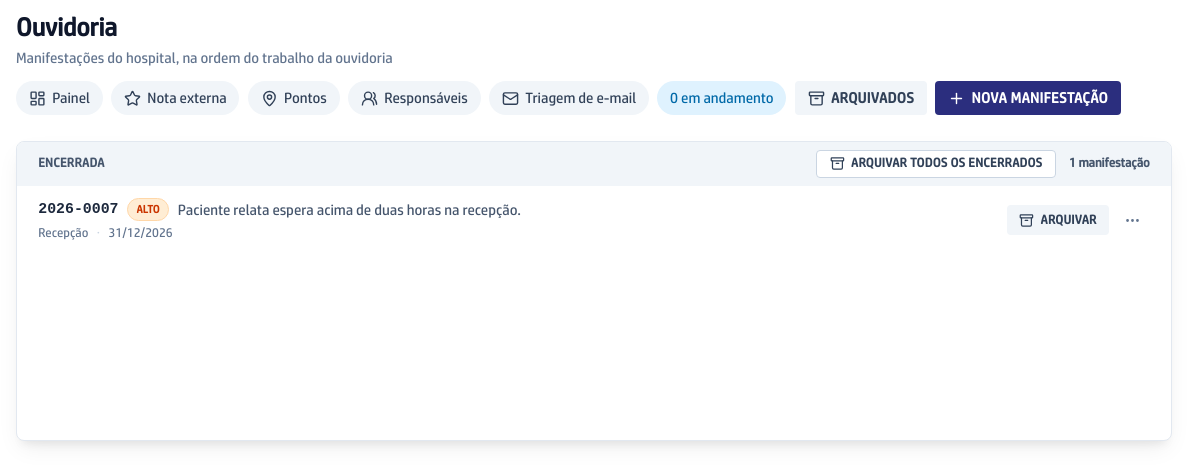
Test case: a recusa do servidor chega ao ouvidor › sem recusa nenhuma, nada de aviso na tela
Check: the text "2026-0007" is shown, box [38, 199, 119, 220]
Click the button "Arquivar": (1058, 220) [1007, 205, 1109, 235]
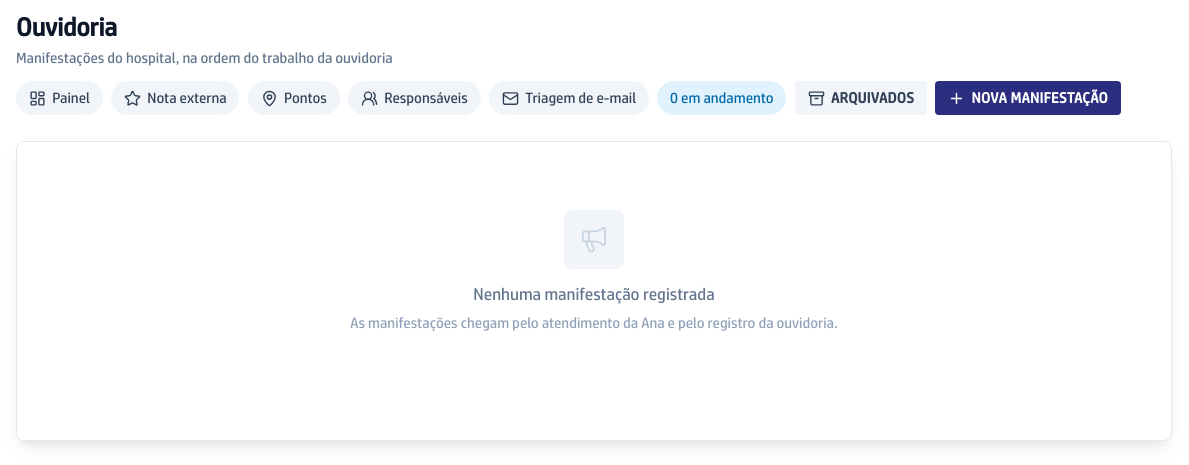
Check: the text "2026-0007" is gone
